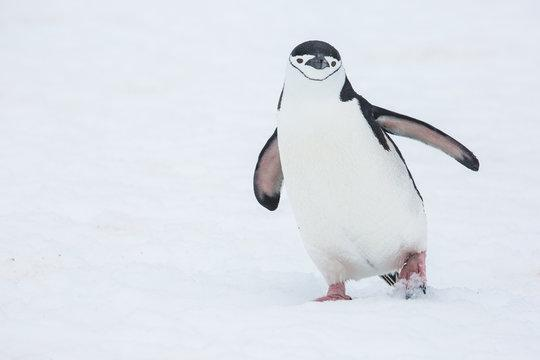chinstrap: (244, 35, 491, 323)
